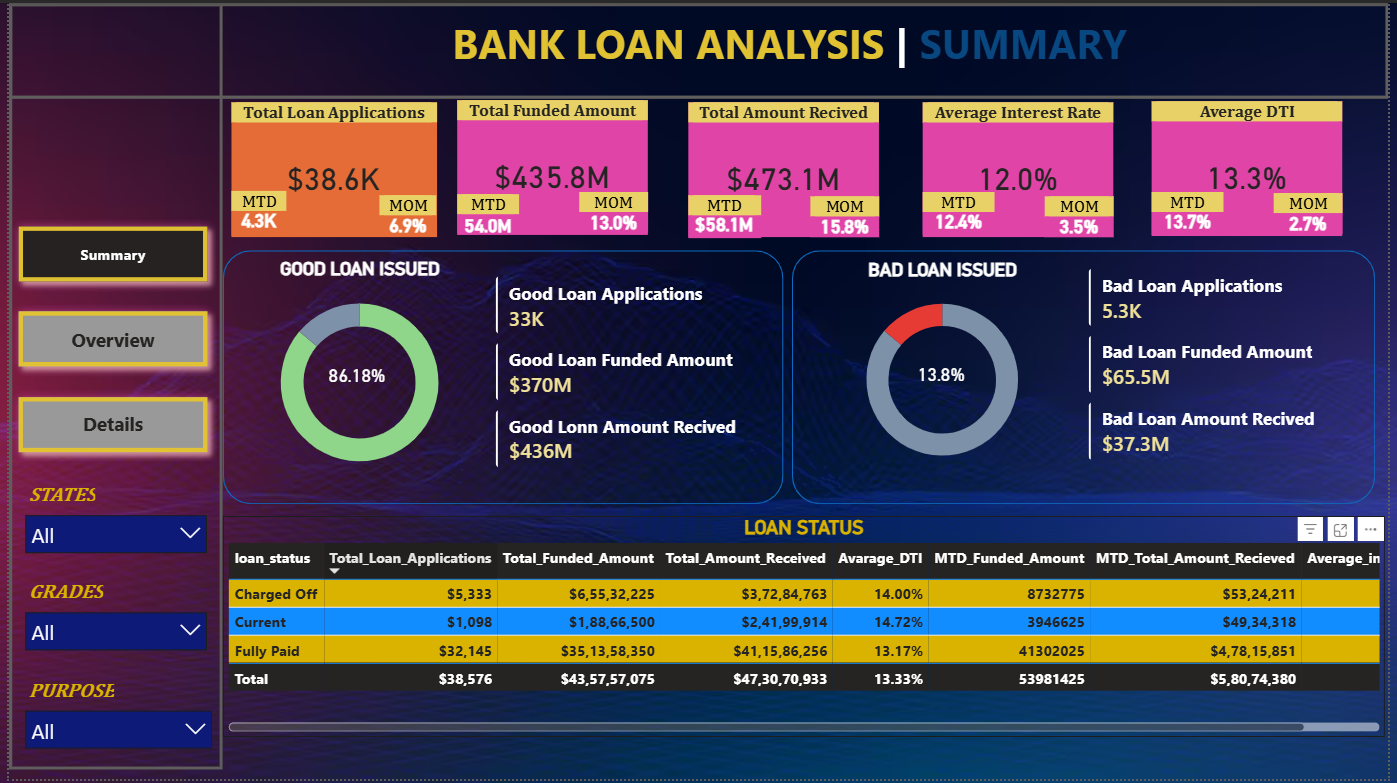

What the dashboard file says about the page in this screenshot:
{"tool":"powerbi","page":{"name":"Summary","canvas":[1280,720],"ordinal":0},"visuals":[{"type":"actionButton","box":[0,0,1280,88.9],"z":0},{"type":"actionButton","box":[0,0,198.4,711.4],"z":1000},{"type":"textbox","box":[389,7,671,60],"z":2000},{"type":"card","title":"Total Loan Applications","fields":{"Values":["Good_Loan_%.Total_Loan_Applications"]},"box":[206.4,92.2,190.4,125.2],"z":3000},{"type":"card","title":"MTD","fields":{"Values":["Good_Loan_%.MTD_Loan_App"]},"box":[206.4,174.3,51.1,42.1],"z":4000},{"type":"card","title":"MOM","fields":{"Values":["Good_Loan_%.MOM_Loan_Applications"]},"box":[343.7,178.4,53.1,38.1],"z":5000},{"type":"card","title":"Total Funded Amount","fields":{"Values":["Good_Loan_%.Total_Funded_Amount"]},"box":[416,90,177,125],"z":6000},{"type":"card","title":"MTD","fields":{"Values":["Good_Loan_%.MTD_Funded_Amount"]},"box":[415.8,177.4,57.1,36.1],"z":7000},{"type":"card","title":"MOM","fields":{"Values":["Good_Loan_%.MOM_Total Funded_Amount"]},"box":[529,175,64,38],"z":8000},{"type":"card","title":"Total Amount Recived","fields":{"Values":["Good_Loan_%.Total_Amount_Received"]},"box":[630,92,177,125],"z":9000},{"type":"card","title":"MTD","fields":{"Values":["Good_Loan_%.MTD_Total_Amount_Recieved"]},"box":[630.2,178.4,67.1,40.1],"z":10000},{"type":"card","title":"MOM","fields":{"Values":["Good_Loan_%.MOM_Total_Amount_Recieved"]},"box":[743,179,64,38],"z":11000},{"type":"card","title":"Average Interest Rate","fields":{"Values":["Good_Loan_%.Average_interest_rate"]},"box":[848,92,177,125],"z":12000},{"type":"card","title":"MTD","fields":{"Values":["Good_Loan_%.MTD_Average_int_rate"]},"box":[848,175,67,40],"z":13000},{"type":"card","title":"MOM","fields":{"Values":["Good_Loan_%.MOM AVG int rate"]},"box":[961,179,64,38],"z":14000},{"type":"card","title":"Average DTI","fields":{"Values":["Good_Loan_%.Avarage_DTI"]},"box":[1060,91,177,125],"z":15000},{"type":"card","title":"MTD","fields":{"Values":["Good_Loan_%.MTD _AVARAGE_DTI"]},"box":[1060,175,67,40],"z":16000},{"type":"card","title":"MOM","fields":{"Values":["Good_Loan_%.MOM AVG DTI"]},"box":[1173,176,64,38],"z":17000},{"type":"shape","box":[198.4,229.5,520,235.5],"z":18000},{"type":"shape","box":[726.4,229.5,541.1,235.5],"z":19000},{"type":"donutChart","title":"GOOD LOAN ISSUED","fields":{"Category":["financial_loan.Good Vs Bad Loan"],"Y":["Good_Loan_%.Total_Loan_Applications"]},"box":[206.4,236.5,238.5,212.4],"z":20000},{"type":"card","fields":{"Values":["Good_Loan_%.Good_Loan_%"]},"box":[288.6,326.6,69.1,40.1],"z":21000},{"type":"cardVisual","fields":{"Data":["Good_Loan_%.Good Loan Applications","Good_Loan_%.Good Loan Funded Amount","Good_Loan_%.Good Lonn Amount Recived"]},"box":[434.9,236.5,274.5,212.4],"z":22000},{"type":"donutChart","title":"BAD LOAN ISSUED","fields":{"Category":["financial_loan.Good Vs Bad Loan"],"Y":["Good_Loan_%.Total_Loan_Applications"]},"box":[745.5,237.5,241.5,205.4],"z":23000},{"type":"cardVisual","fields":{"Data":["Good_Loan_%.Bad Loan Applications","Good_Loan_%.Bad Loan Funded Amount","Good_Loan_%.Bad Loan Amount Recived"]},"box":[984.9,229.5,282.6,212.4],"z":24000},{"type":"card","fields":{"Values":["Good_Loan_%.Bad_Loan_%"]},"box":[824.6,325.6,81.2,41.1],"z":25000},{"type":"tableEx","title":"LOAN STATUS","fields":{"Values":["financial_loan.loan_status","Good_Loan_%.Total_Loan_Applications","Good_Loan_%.Total_Funded_Amount","Good_Loan_%.Total_Amount_Received","Good_Loan_%.Avarage_DTI","Good_Loan_%.MTD_Funded_Amount","Good_Loan_%.MTD_Total_Amount_Recieved","Good_Loan_%.Average_interest_rate"]},"box":[198.4,475.9,1078.1,205.4],"z":26000},{"type":"slicer","fields":{"Values":["financial_loan.address_state"]},"box":[5,441.9,188.4,75.1],"z":27000},{"type":"slicer","fields":{"Values":["financial_loan.grade"]},"box":[5,532.1,188.4,75.1],"z":28000},{"type":"slicer","fields":{"Values":["financial_loan.purpose"]},"box":[5,623.2,193.4,79.2],"z":29000},{"type":"pageNavigator","box":[0,198.4,193.4,229.5],"z":30000},{"type":"image","box":[0,7,193.4,148.3],"z":31000}]}

Visuals, with their boxes in screenshot pixels (x1, y1, x2, y2), scaled from the page's 1280x720 canvas onto the 1397x783 screenshot:
actionButton: 0:0:1396:97
actionButton: 0:0:217:774
textbox: 425:8:1157:73
"Total Loan Applications" card: 225:100:433:236
"MTD" card: 225:190:281:235
"MOM" card: 375:194:433:235
"Total Funded Amount" card: 454:98:647:234
"MTD" card: 454:193:516:232
"MOM" card: 577:190:647:232
"Total Amount Recived" card: 688:100:881:236
"MTD" card: 688:194:761:238
"MOM" card: 811:195:881:236
"Average Interest Rate" card: 926:100:1119:236
"MTD" card: 926:190:999:234
"MOM" card: 1049:195:1119:236
"Average DTI" card: 1157:99:1350:235
"MTD" card: 1157:190:1230:234
"MOM" card: 1280:191:1350:233
shape: 217:250:784:506
shape: 793:250:1383:506
"GOOD LOAN ISSUED" donutChart: 225:257:486:488
card - Good_Loan_%.Good_Loan_%: 315:355:390:399
cardVisual - Good_Loan_%.Good Loan Applications x Good_Loan_%.Good Loan Funded Amount: 475:257:774:488
"BAD LOAN ISSUED" donutChart: 814:258:1077:482
cardVisual - Good_Loan_%.Bad Loan Applications x Good_Loan_%.Bad Loan Funded Amount: 1075:250:1383:481
card - Good_Loan_%.Bad_Loan_%: 900:354:989:399
"LOAN STATUS" tableEx: 217:518:1393:741
slicer - financial_loan.address_state: 5:481:211:562
slicer - financial_loan.grade: 5:579:211:660
slicer - financial_loan.purpose: 5:678:217:764
pageNavigator: 0:216:211:465
image: 0:8:211:169
